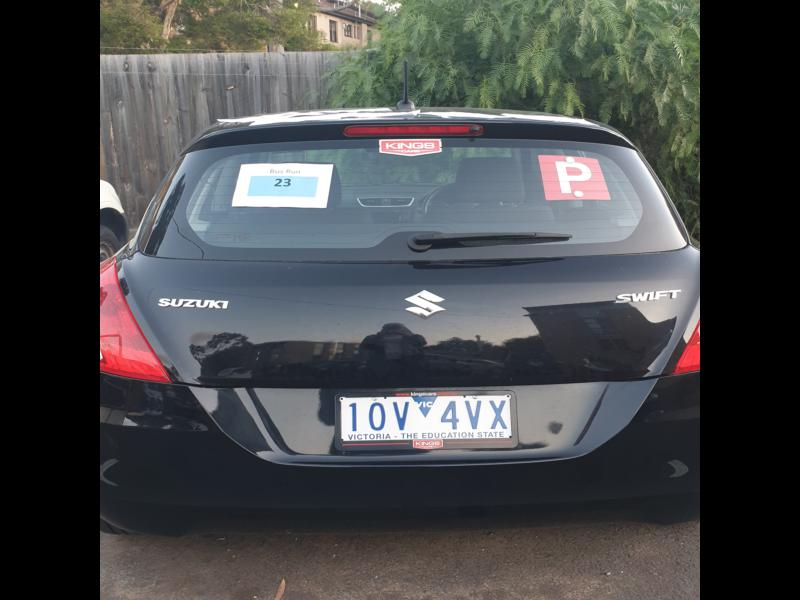BusRun: (244, 174, 318, 197)
PlateNo: (341, 395, 515, 440)
